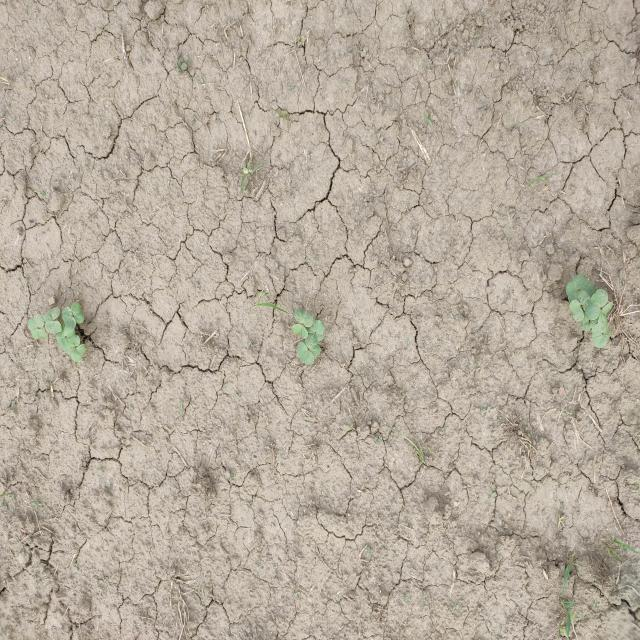seedling_s2: (585, 289, 608, 320), (572, 275, 595, 297), (296, 342, 314, 365), (598, 301, 613, 328), (305, 334, 321, 358), (61, 306, 76, 331), (574, 290, 591, 311), (592, 323, 606, 348), (569, 299, 584, 322), (295, 309, 314, 327), (65, 335, 80, 355), (27, 314, 44, 331), (71, 343, 87, 361), (306, 320, 325, 335), (56, 323, 66, 351), (71, 302, 84, 323), (566, 281, 578, 303), (64, 326, 75, 349), (44, 307, 60, 322), (292, 324, 308, 339), (45, 320, 62, 334), (31, 329, 47, 340), (310, 333, 324, 345), (602, 322, 610, 342)
